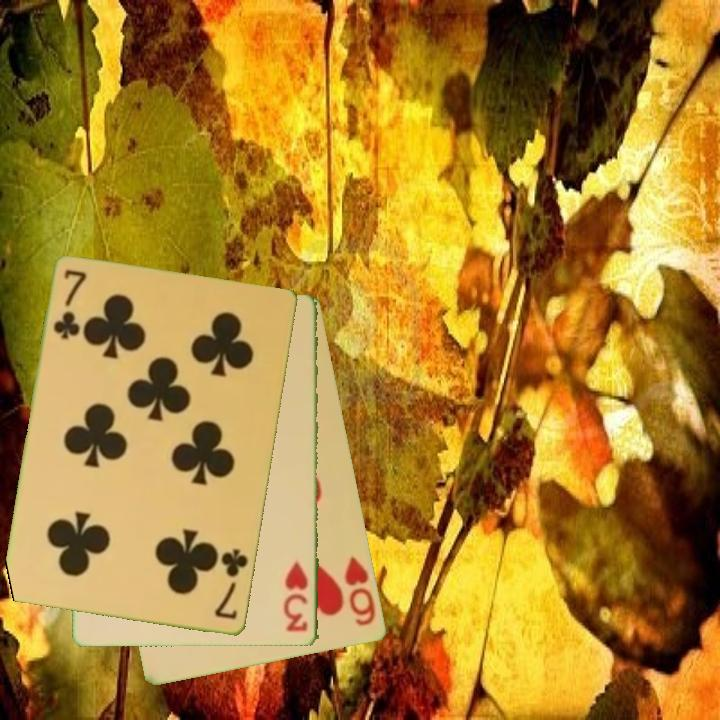3h: (281, 558, 311, 636)
6h: (341, 553, 379, 629)
7c: (211, 545, 251, 623), (50, 266, 90, 342)
